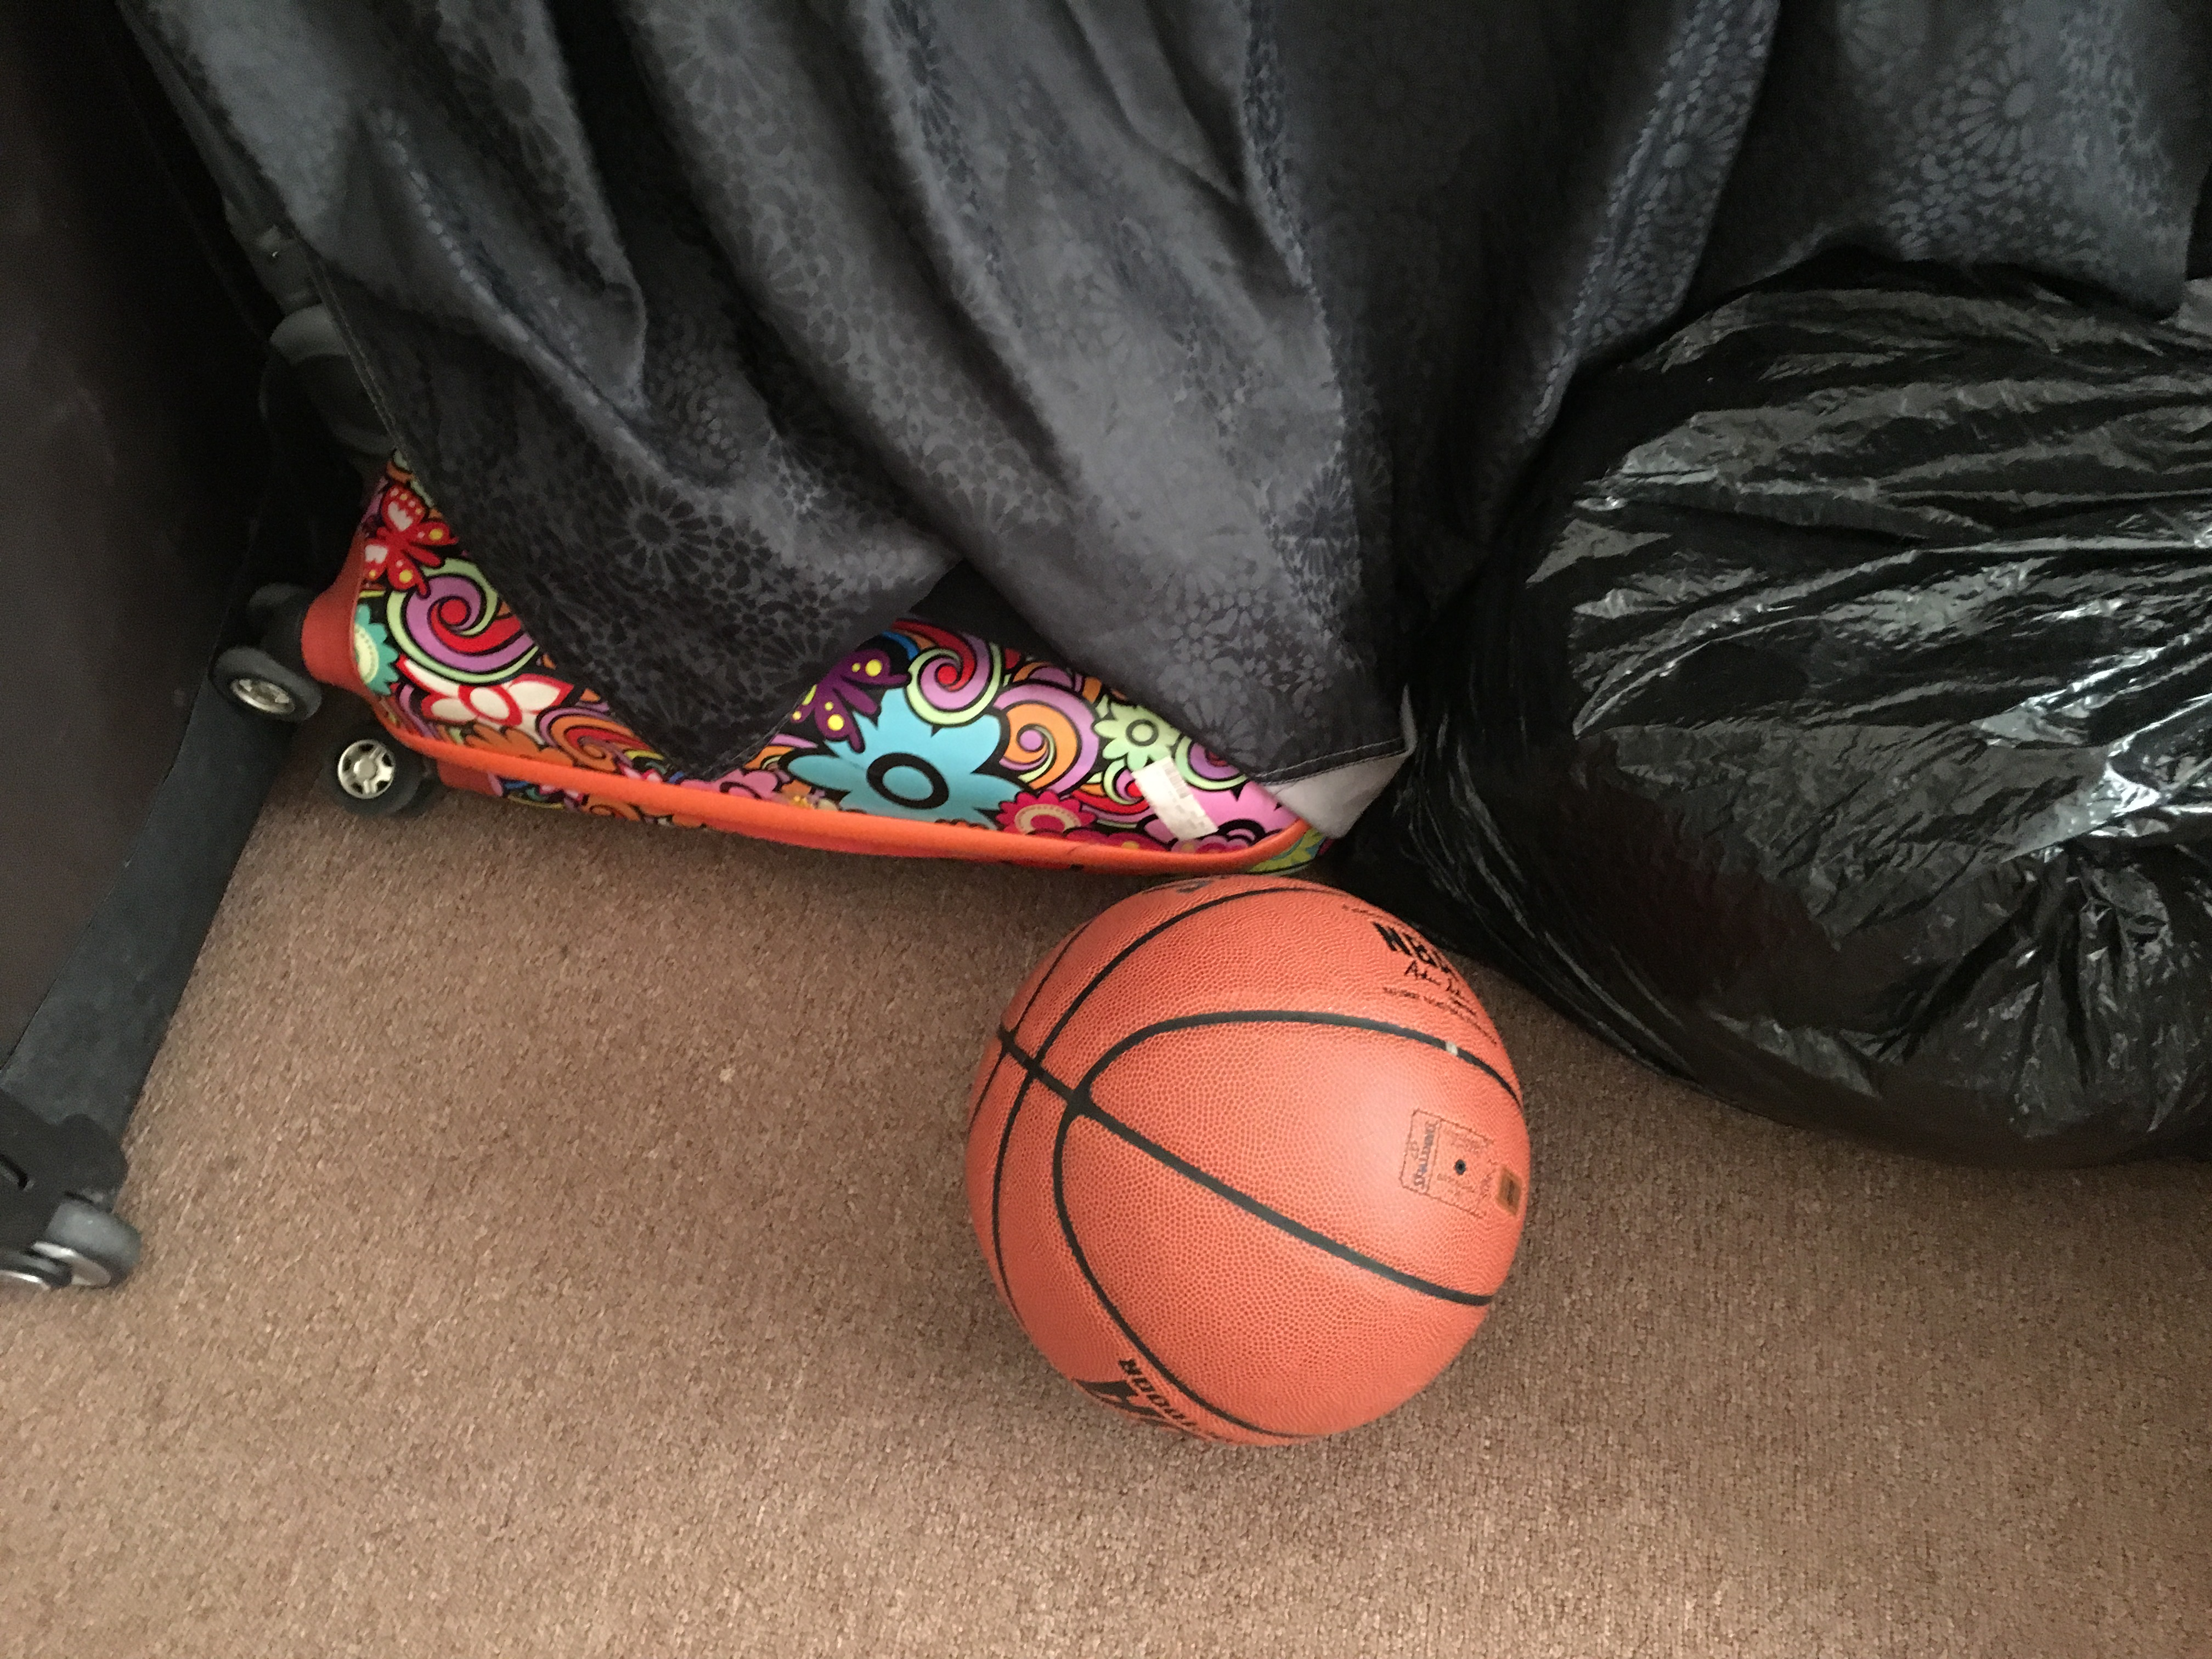Basketball: (956, 871, 1545, 1466)
